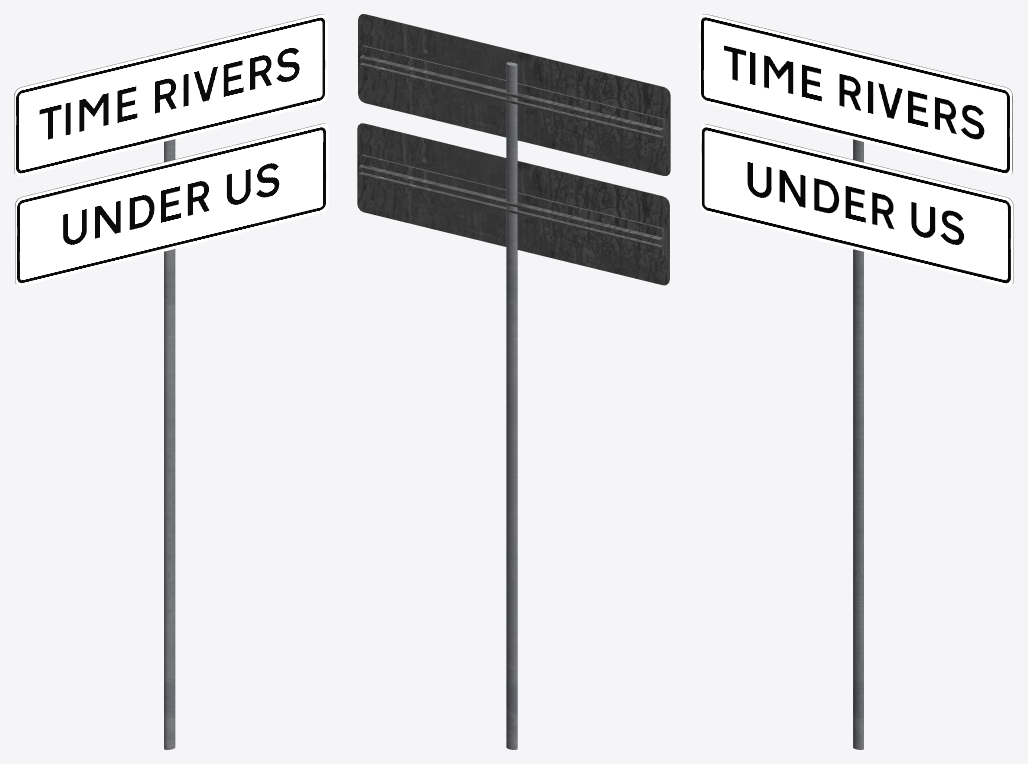
File: time-rivers.gltf
The picture shows the model from 3 angles, left to right: view 1: azimuth 30°, elevation 25°; view 2: azimuth 150°, elevation 25°; view 3: azimuth 330°, elevation 25°; orthographic projection.
Parts seen in each view (by area): view 1: Sign_S_1.5_.043, Sign_S_1.5_.042, PoleA_50.8_2800mm_A_.064; view 2: Sign_S_1.5_.042, Sign_S_1.5_.043, PoleA_50.8_2800mm_A_.064; view 3: Sign_S_1.5_.042, Sign_S_1.5_.043, PoleA_50.8_2800mm_A_.064.
Part boxes in pixels (<box>): Sign_S_1.5_.043: <box>15,123,328,286</box>; Sign_S_1.5_.042: <box>14,14,327,176</box>; PoleA_50.8_2800mm_A_.064: <box>164,139,175,749</box>; Sign_S_1.5_.042: <box>358,14,670,175</box>; Sign_S_1.5_.043: <box>357,123,669,285</box>; PoleA_50.8_2800mm_A_.064: <box>506,62,517,749</box>; Sign_S_1.5_.042: <box>699,14,1012,176</box>; Sign_S_1.5_.043: <box>700,124,1013,286</box>; PoleA_50.8_2800mm_A_.064: <box>853,139,863,749</box>.
Bounding box in the file's own units: 1 × 2.13 × 0.0256.
Materials: 5 (5 with a texture image).
